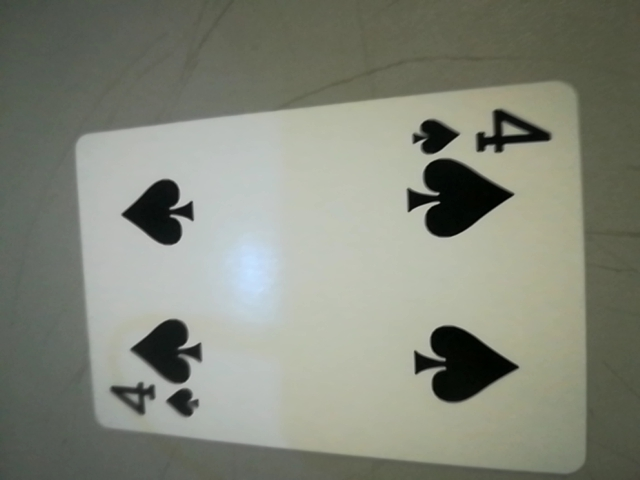ht 4: (402, 104, 566, 167)
